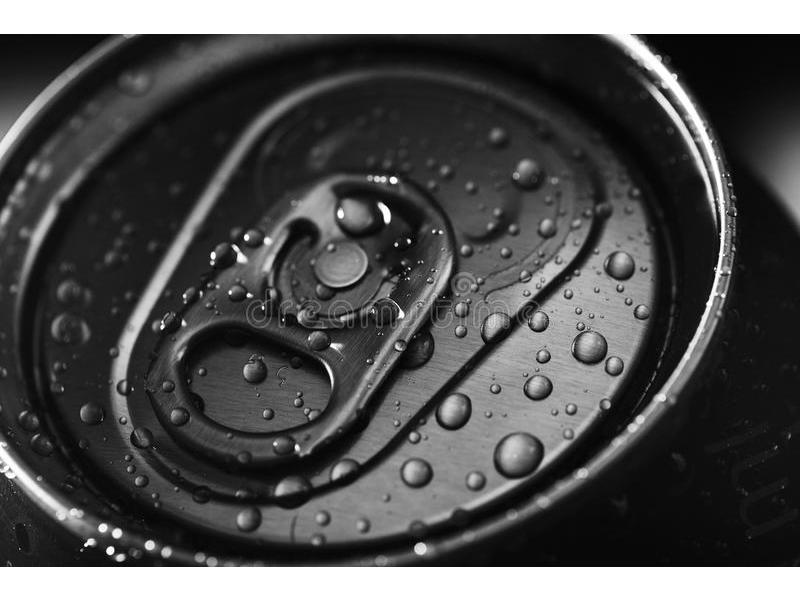can: (0, 33, 747, 562)
